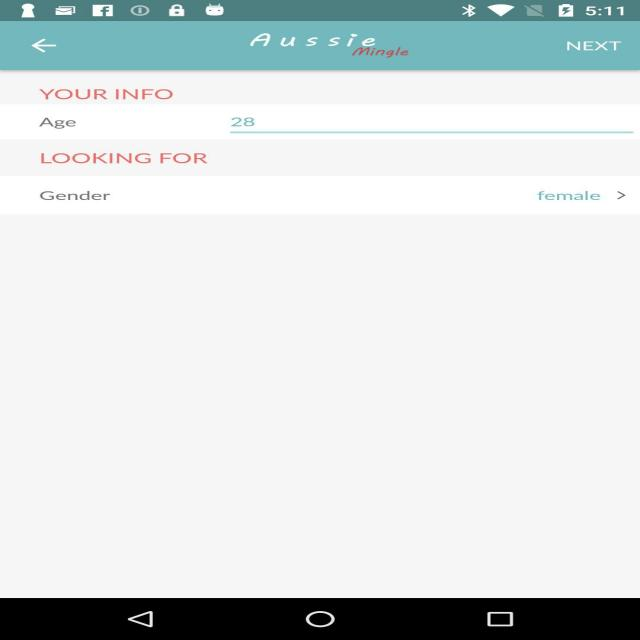text: (24, 143, 263, 212), (12, 75, 299, 114)
